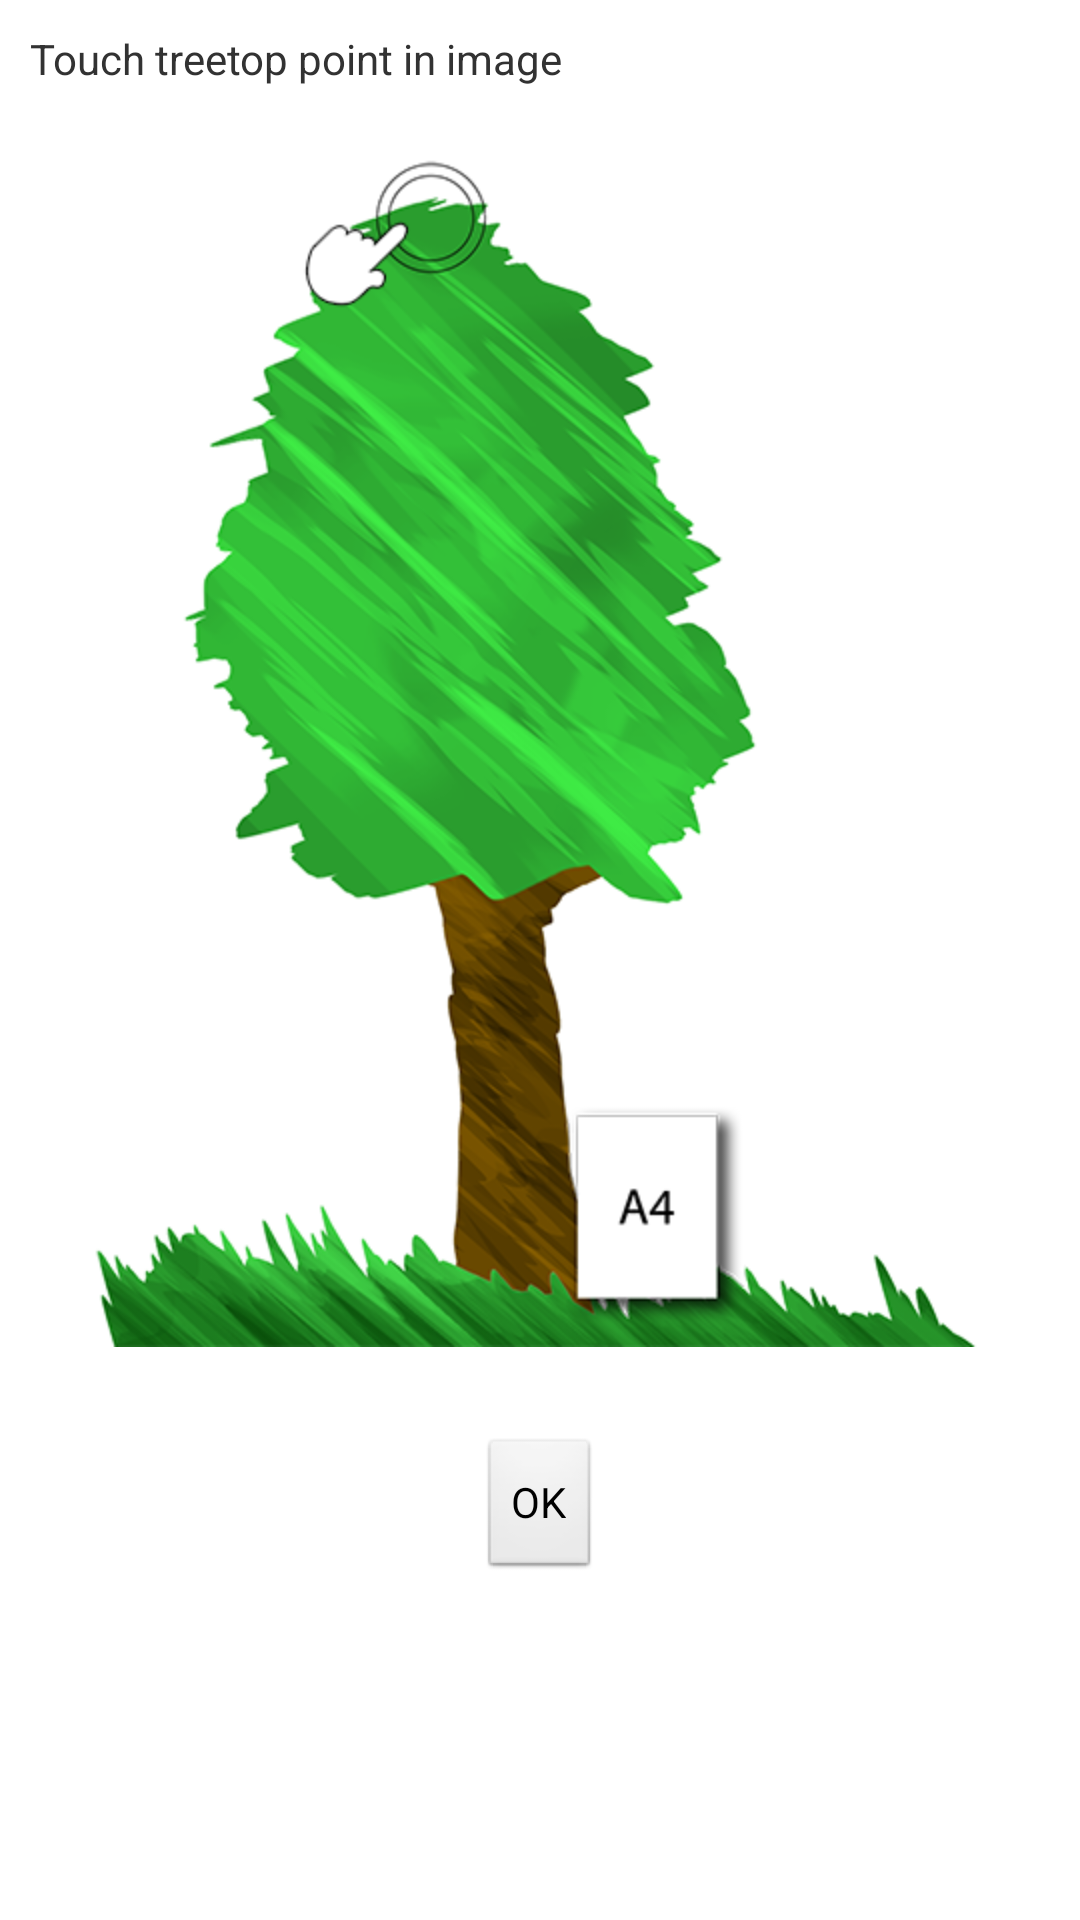

Named icons in this screenshot (1080*1920) and their centers, (x=x, y=y):
ip touch: (x=357, y=264)
